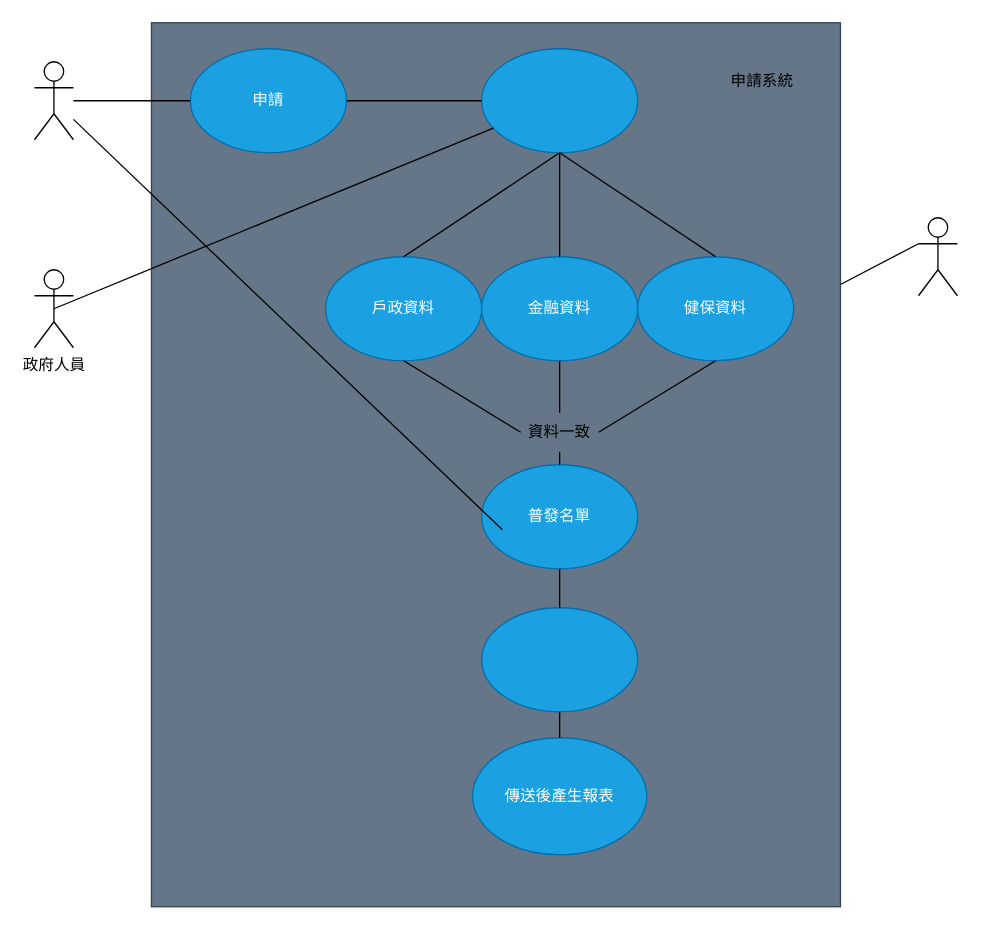
This 998x929 diagram has some shape labels left out. Here are the shapes that lost their labels. From the top down, the box of each, then its label:
(33, 60, 73, 140): 民眾
(480, 47, 638, 153): 審核
(917, 216, 957, 296): 系統管理者
(480, 606, 638, 712): 資料寫入成JSON格式
